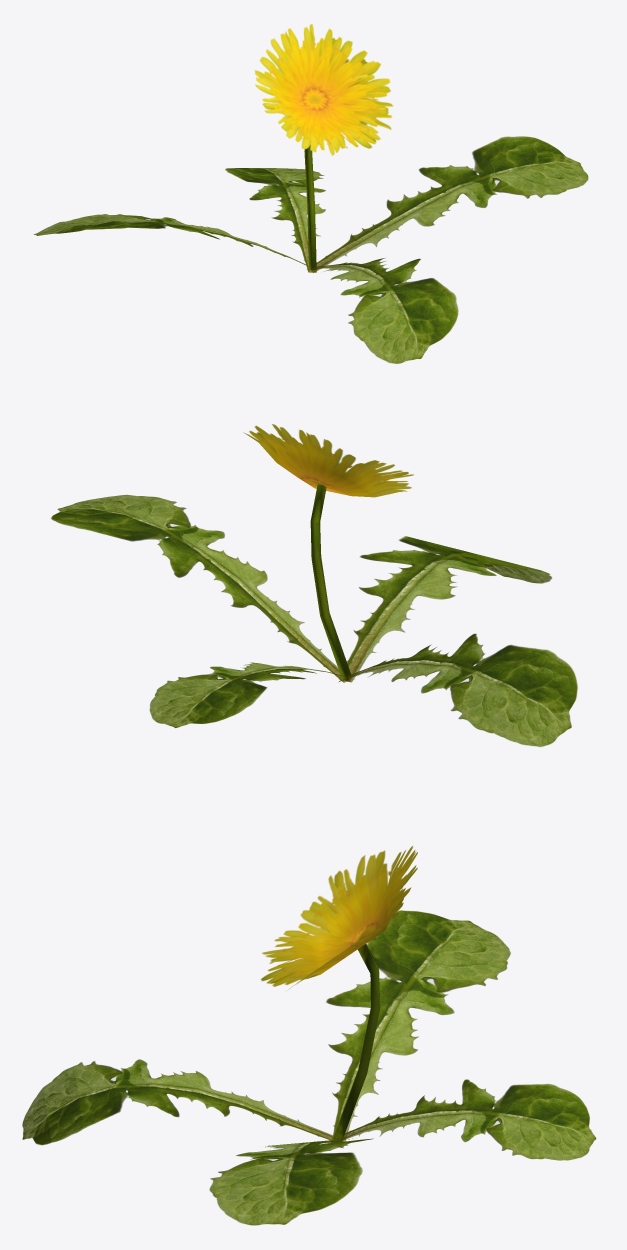
File: Sunflower.glb
3 views of the same model, one above another, from view 1: azimuth 30°, elevation 25°; view 2: azimuth 150°, elevation 25°; view 3: azimuth 270°, elevation 25° (orthographic). The views are drawn at different scales.
Parts seen in each view (by area): view 1: Leaves, Bud, Stem; view 2: Leaves, Bud, Stem; view 3: Leaves, Bud, Stem.
Boxes of the visible parts, left/top/right/bottom form: Leaves: left=33, top=136, right=588, bottom=363; Bud: left=254, top=24, right=393, bottom=155; Stem: left=304, top=144, right=316, bottom=270; Leaves: left=51, top=495, right=577, bottom=746; Bud: left=243, top=424, right=413, bottom=497; Stem: left=310, top=484, right=350, bottom=680; Leaves: left=22, top=910, right=596, bottom=1225; Bud: left=260, top=846, right=417, bottom=989; Stem: left=333, top=944, right=380, bottom=1141.
Bounding box in the file's own units: 1.27 × 0.563 × 0.9863.
3 materials, 3 textured.
